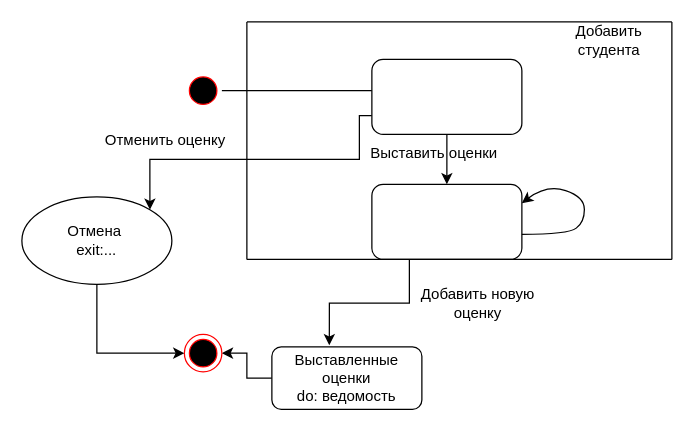
The diagram is 695 pixels wide and 431 high, and some of its shapes have lost their labels. The shapes that lost their labels are listed below. From the top down, each one's centre as x and y in pixels, then its label:
At (446,96): "Инициализация операция".
At (446,221): "Выставление оценок отложенно".
